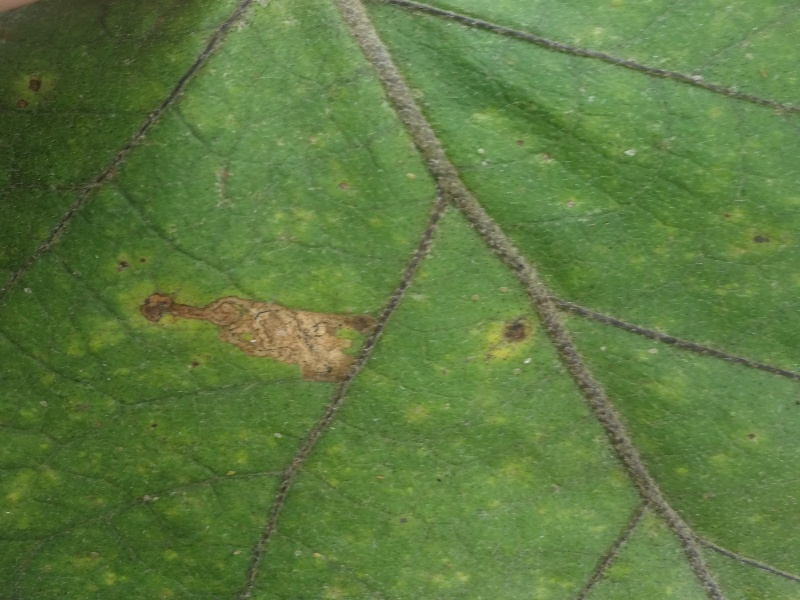leafminer: (133, 292, 390, 401)
